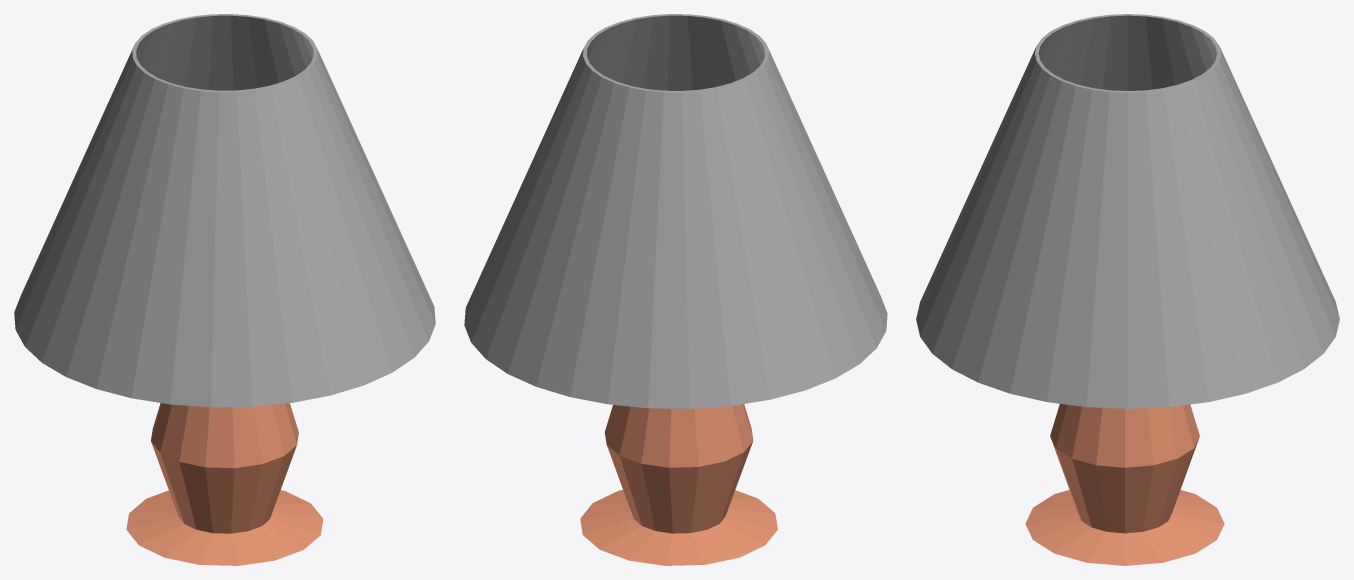
The model's file is Velador.fbx.
3 views of the same model, side by side, from view 1: azimuth 30°, elevation 25°; view 2: azimuth 150°, elevation 25°; view 3: azimuth 270°, elevation 25° (orthographic).
Visible parts, largest first — view 1: Velador; view 2: Velador; view 3: Velador.
Boxes of the visible parts, x1=… form: Velador: x1=14, y1=14, x2=435, y2=565; Velador: x1=464, y1=14, x2=887, y2=565; Velador: x1=916, y1=14, x2=1339, y2=565.
Bounding box in the file's own units: 40.86 × 50.12 × 40.86.
